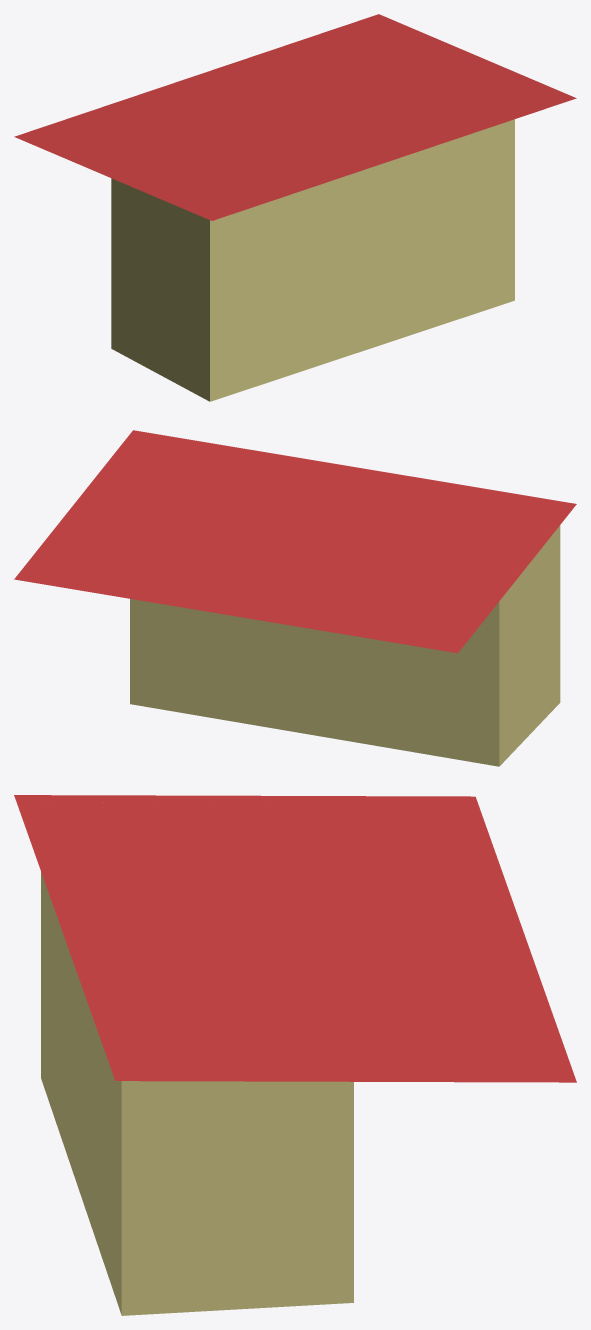
3 views of the same model, one above another, from view 1: azimuth 30°, elevation 25°; view 2: azimuth 150°, elevation 25°; view 3: azimuth 270°, elevation 25° (orthographic). The views are drawn at different scales.
Size of the model in its own units: 16.26 by 12.27 by 6.68.
